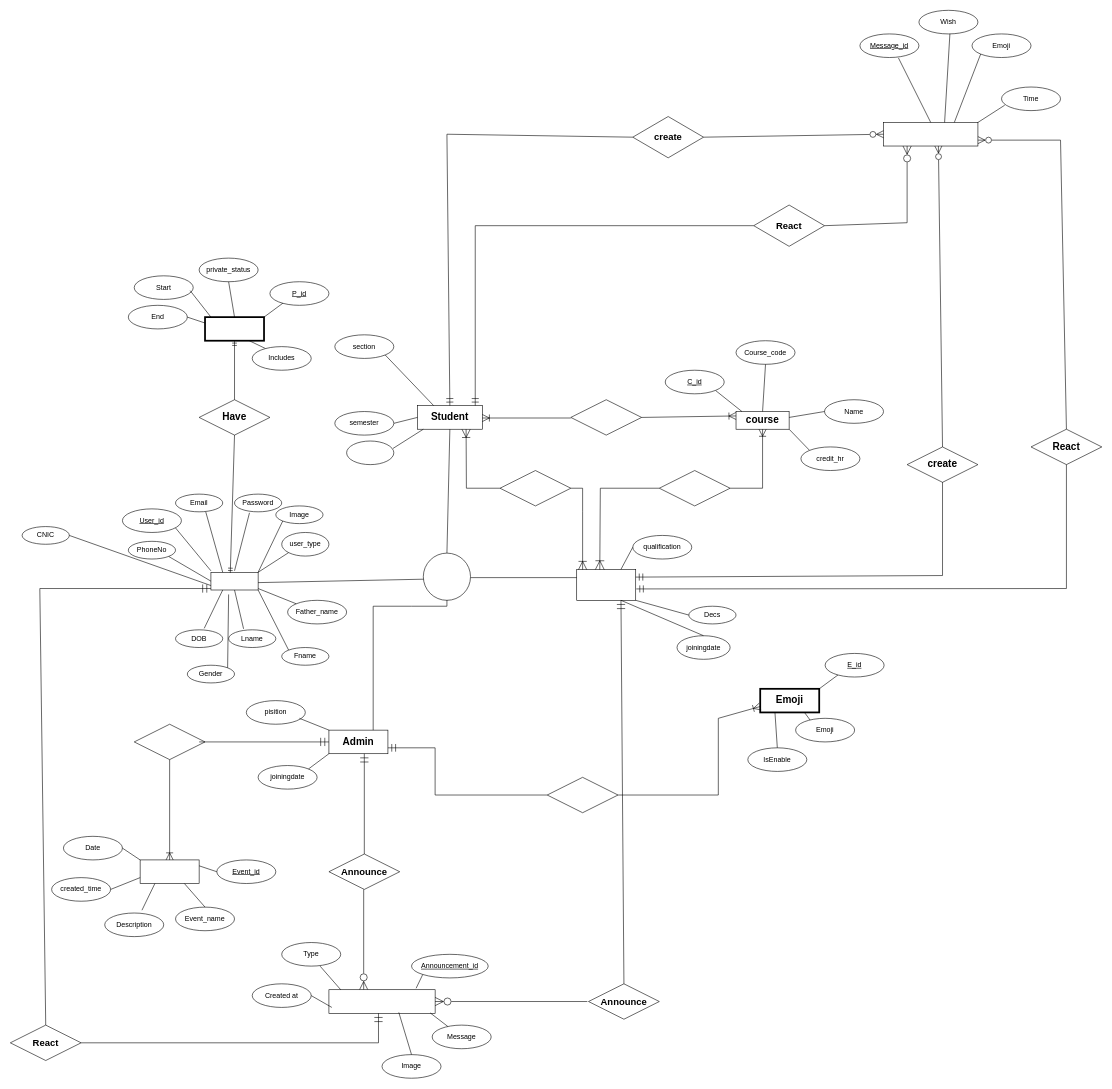
This 1112x1089 diagram has some shape labels left out. Each missing label, with the centre of its shape:
"Add" goes at pixel 169 742.
"Announcement" goes at pixel 381 1001.
"Control" goes at pixel 582 795.
"Department" goes at pixel 370 452.
"Enroll" goes at pixel 606 417.
"Event" goes at pixel 169 871.
"Has_fav" goes at pixel 535 488.
"Messages" goes at pixel 930 134.
"preference" goes at pixel 234 328.
"Teacher" goes at pixel 606 584.
"teaches" goes at pixel 694 488.
"User" goes at pixel 234 581.
